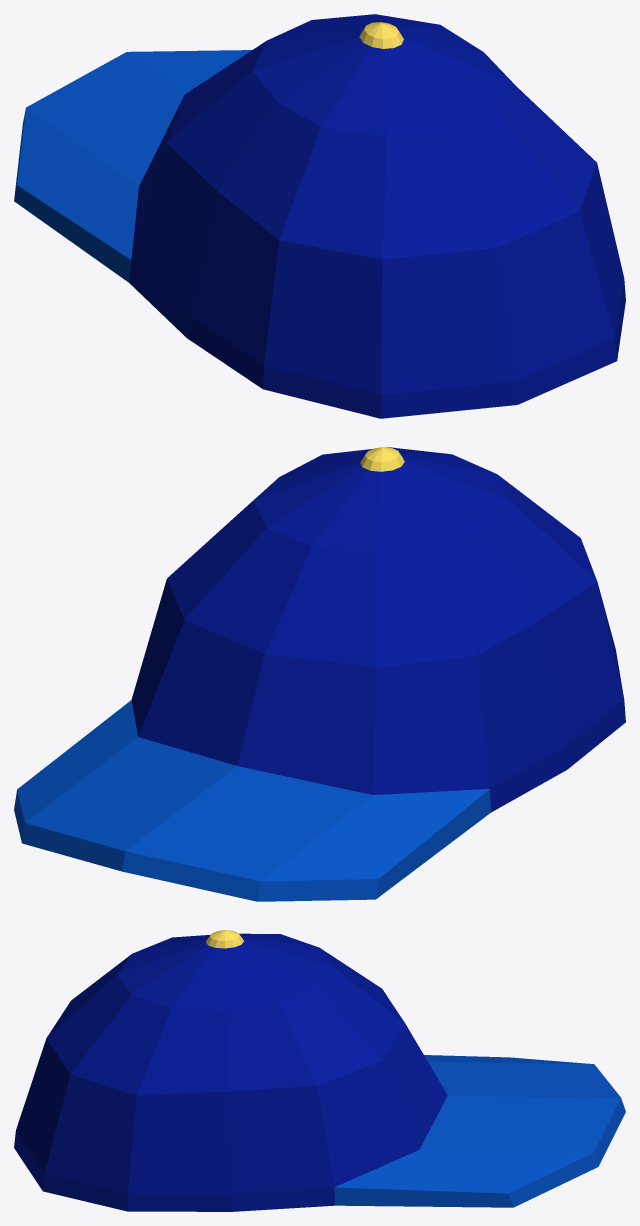
The model's file is Daszek.fbx.
The picture shows the model from 3 angles, top to bottom: view 1: azimuth 30°, elevation 25°; view 2: azimuth 150°, elevation 25°; view 3: azimuth 270°, elevation 25°; orthographic projection. The views are drawn at different scales.
Parts seen in each view (by area): view 1: Sphere; view 2: Sphere; view 3: Sphere.
Boxes of the visible parts, x1,y1,x2,y2 form: Sphere: [14, 14, 625, 418]; Sphere: [14, 447, 625, 901]; Sphere: [14, 930, 625, 1211].
Size of the model in its own units: 60.75 by 42.95 by 109.
Materials: 1 (1 with a texture image).
